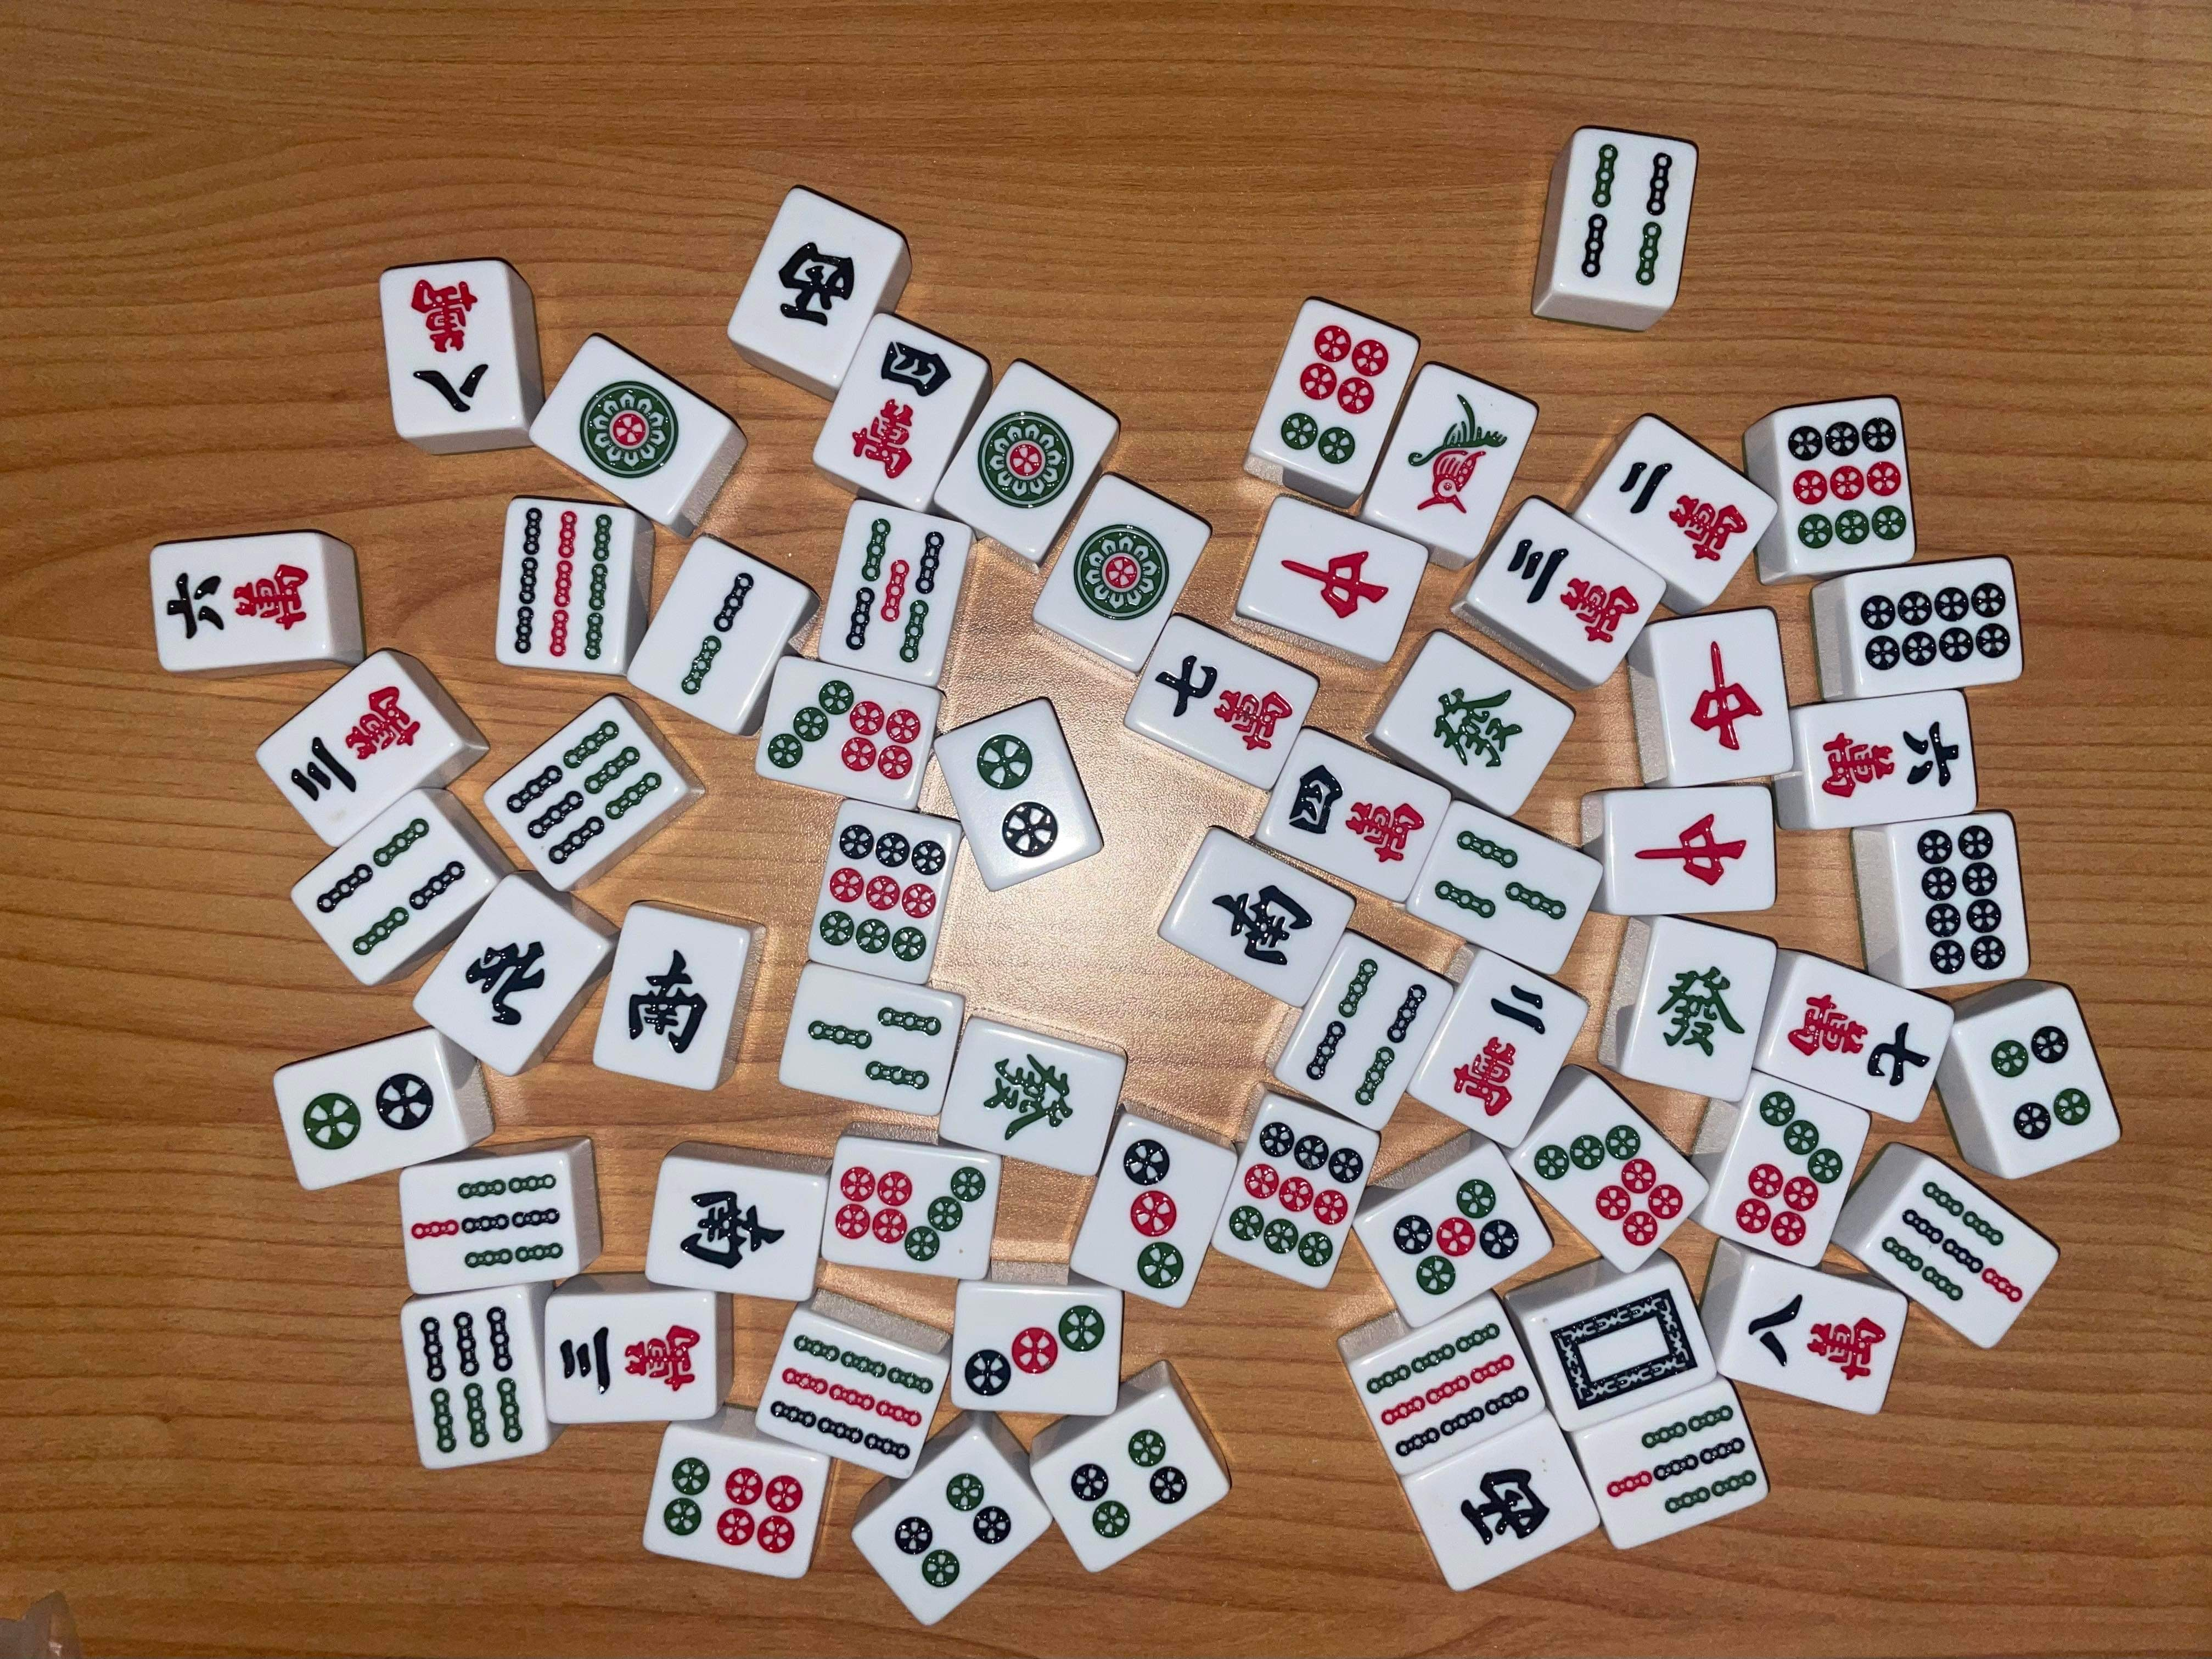b-1: (1408, 394, 1510, 516)
b-2: (678, 572, 755, 695)
b-3: (809, 997, 945, 1094), (1433, 829, 1567, 920)
b-4: (314, 817, 467, 958), (1306, 957, 1428, 1107), (1581, 141, 1672, 289)
b-5: (845, 518, 945, 664)
b-6: (506, 720, 664, 868), (420, 1305, 525, 1453)
b-7: (1879, 1182, 2027, 1303), (1602, 1405, 1759, 1514), (408, 1171, 568, 1270)
b-9: (1365, 1323, 1532, 1457), (769, 1331, 936, 1462), (512, 507, 614, 660)
c-2: (1618, 460, 1748, 565), (1452, 985, 1546, 1119)
c-3: (288, 681, 422, 802), (1506, 538, 1642, 645), (554, 1323, 704, 1396)
c-4: (847, 342, 953, 479), (1286, 763, 1426, 864)
c-6: (164, 559, 314, 641), (1816, 720, 1966, 802)
c-7: (1156, 655, 1292, 755), (1785, 995, 1933, 1086)
c-8: (1745, 1291, 1891, 1389), (404, 274, 493, 416)
d-1: (577, 378, 682, 479), (974, 410, 1074, 511), (1072, 523, 1171, 620)
d-2: (971, 730, 1065, 861), (300, 1066, 434, 1152)
d-3: (960, 1305, 1105, 1399), (1123, 1138, 1185, 1291)
d-4: (894, 1473, 1013, 1588), (1070, 1427, 1189, 1540), (1991, 1025, 2092, 1141)
d-5: (1391, 1176, 1518, 1297)
d-6: (1281, 326, 1389, 464), (661, 1457, 805, 1554)
d-7: (1532, 1124, 1686, 1246), (1734, 1089, 1844, 1248), (767, 680, 922, 784), (835, 1166, 987, 1263)
d-8: (1916, 823, 2008, 974), (1858, 582, 2013, 671)
d-9: (1227, 1121, 1363, 1269), (819, 823, 947, 964), (1785, 416, 1909, 551)
honors-green: (985, 1049, 1075, 1143), (1656, 965, 1747, 1056), (1431, 685, 1523, 774)
honors-north: (464, 939, 547, 1028)
honors-red: (1633, 812, 1748, 889), (1272, 549, 1394, 619), (1689, 641, 1762, 753)
honors-south: (678, 1183, 793, 1272), (1206, 884, 1314, 969), (626, 948, 709, 1056)
honors-west: (1459, 1466, 1553, 1547), (774, 242, 859, 331)
honors-white: (1544, 1286, 1700, 1412)
